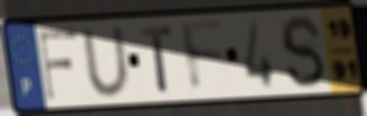4: (241, 16, 279, 90)
F: (177, 20, 229, 97), (37, 27, 80, 103)
S: (278, 13, 328, 91)
T: (139, 24, 175, 95)
U: (79, 24, 133, 99)
